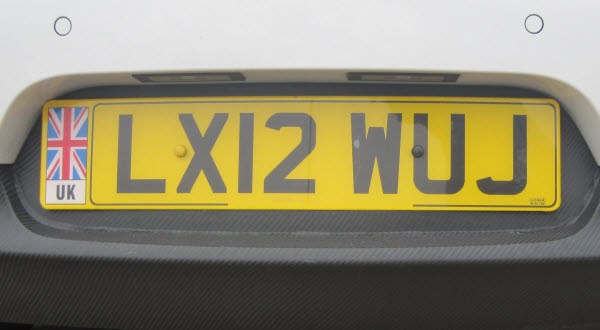license_plate: (39, 96, 560, 214)
